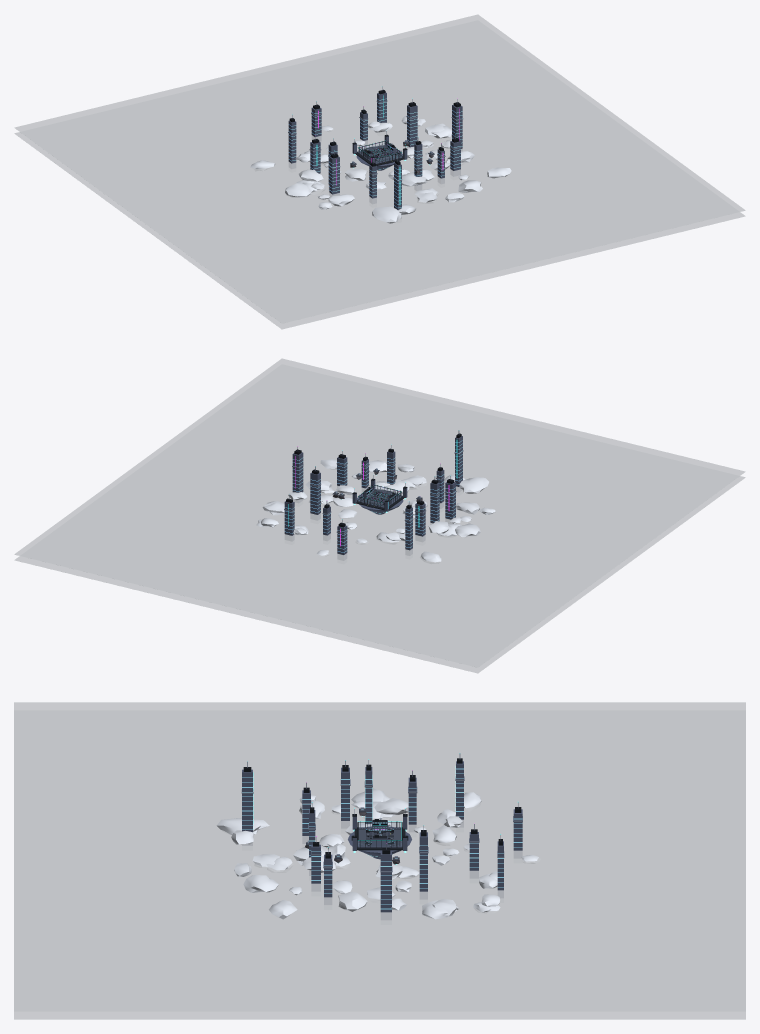
The model's file is arena_skyfort.glb.
3 views of the same model, one above another, from view 1: azimuth 30°, elevation 25°; view 2: azimuth 150°, elevation 25°; view 3: azimuth 270°, elevation 25° (orthographic). The views are drawn at different scales.
Visible parts, largest first — view 1: Backdrop_Clouds, Backdrop_Islands; view 2: Backdrop_Clouds, Backdrop_Islands, Backdrop_Hull; view 3: Backdrop_Clouds, Backdrop_Islands, Backdrop_Hull, Outer_Walls.
Part boxes in pixels (left/top/right/bottom): Backdrop_Clouds: left=14, top=14, right=745, bottom=329; Backdrop_Islands: left=288, top=86, right=463, bottom=217; Backdrop_Clouds: left=14, top=358, right=745, bottom=673; Backdrop_Islands: left=284, top=430, right=463, bottom=559; Backdrop_Hull: left=352, top=475, right=407, bottom=514; Backdrop_Clouds: left=14, top=702, right=745, bottom=1019; Backdrop_Islands: left=241, top=753, right=522, bottom=919; Backdrop_Hull: left=348, top=808, right=411, bottom=859; Outer_Walls: left=357, top=822, right=402, bottom=847.
Size of the model in its own units: 840 by 111 by 840.
